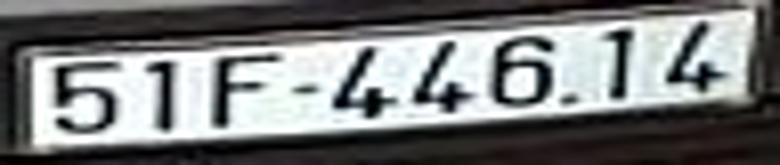-: (289, 81, 321, 96)
.: (561, 89, 581, 108)
1: (144, 59, 177, 134), (605, 24, 636, 101)
4: (661, 20, 730, 94), (411, 41, 476, 116), (332, 45, 398, 118)
5: (51, 59, 120, 137)
6: (491, 32, 556, 108)
F: (209, 51, 284, 126)
